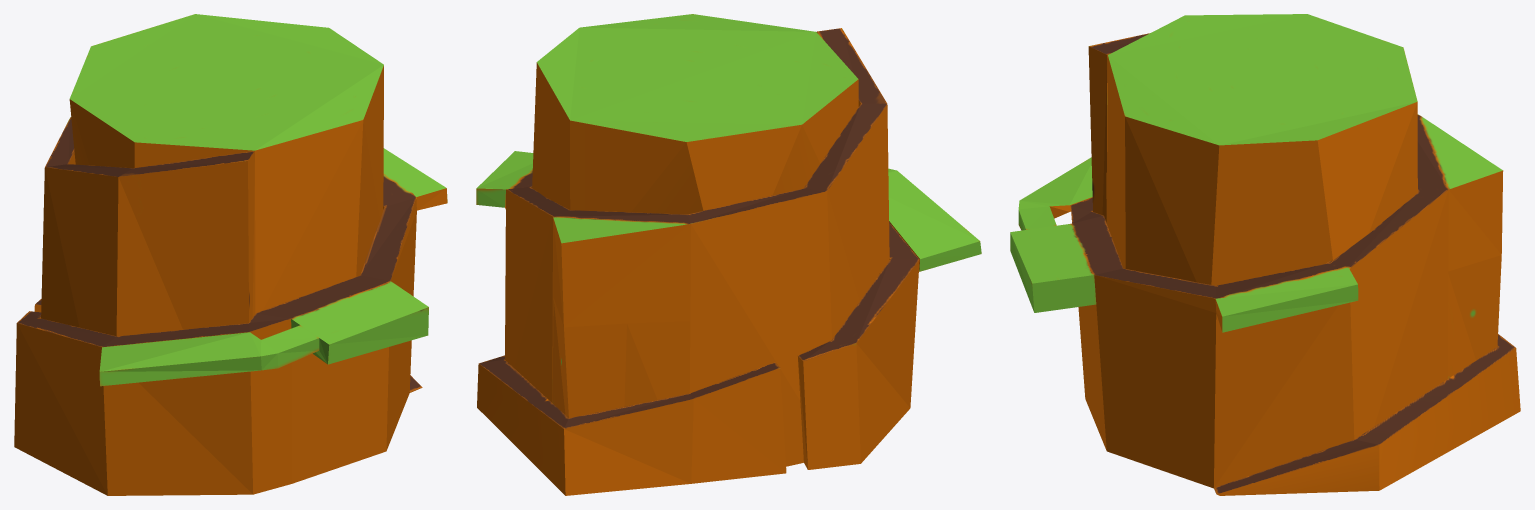
Rendered from Mountaintextures.fbx.
3 renders of one model, left to right at view 1: azimuth 30°, elevation 25°; view 2: azimuth 150°, elevation 25°; view 3: azimuth 270°, elevation 25°, orthographic.
Parts seen in each view (by area): view 1: Mountain; view 2: Mountain; view 3: Mountain.
Boxes of the visible parts, box(x1,y1,x2,y2) form: Mountain: box(14, 14, 447, 495); Mountain: box(476, 14, 981, 495); Mountain: box(1010, 14, 1520, 495).
Bounding box in the file's own units: 4302 × 3386 × 4620.
1 material, 1 textured.
